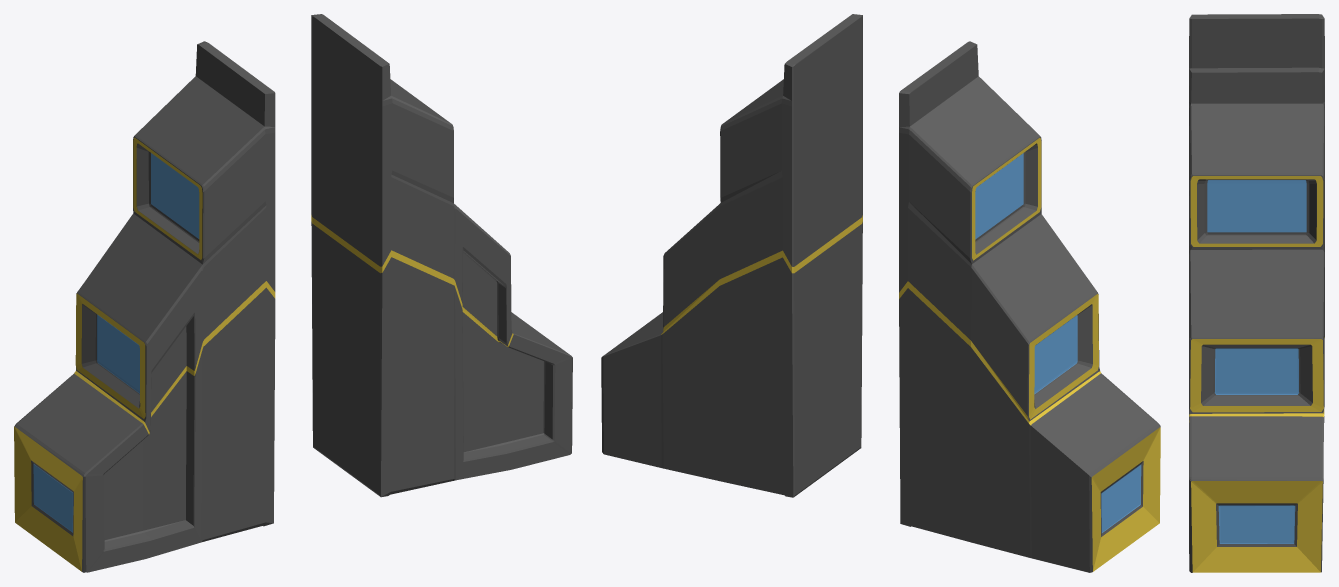
The model's file is PredioFuturistaCorrigido.fbx.
3 renders of one model, left to right at view 1: azimuth 30°, elevation 25°; view 2: azimuth 150°, elevation 25°; view 3: azimuth 270°, elevation 25°, orthographic. The views are drawn at different scales.
Parts seen in each view (by area): view 1: Cylinder.003; view 2: Cylinder.003; view 3: Cylinder.003.
Part boxes in pixels (left/top/right/bottom): Cylinder.003: left=14, top=14, right=572, bottom=572; Cylinder.003: left=601, top=14, right=1160, bottom=572; Cylinder.003: left=1189, top=14, right=1324, bottom=572.
Bounding box in the file's own units: 9843 × 8347 × 2468.
